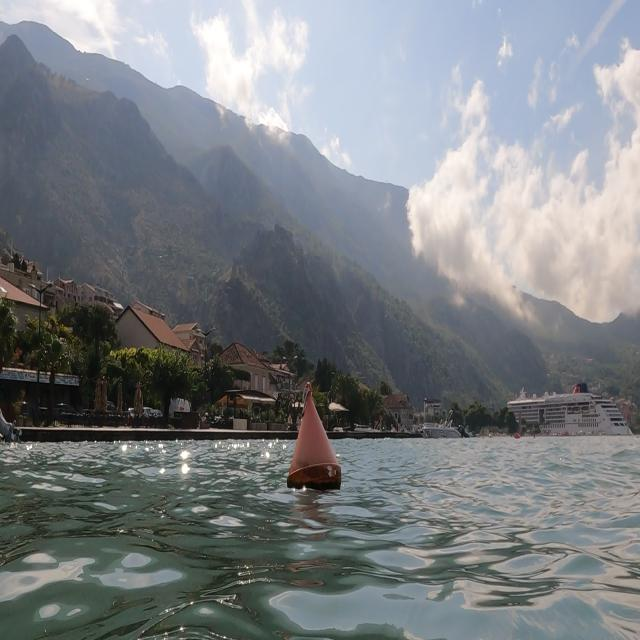boat: (502, 370, 638, 450), (417, 394, 469, 444)
buoy: (282, 376, 350, 502)
